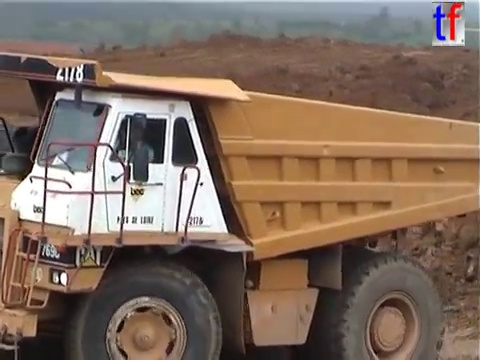truck: (1, 46, 480, 360)
